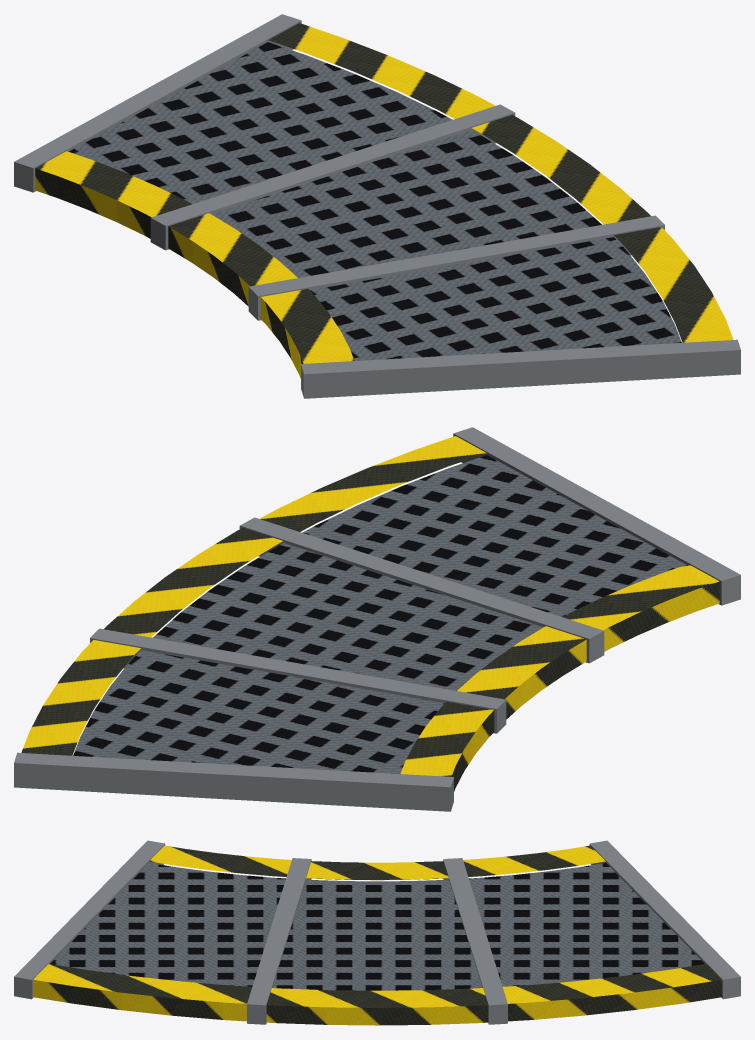
Rendered from ring_grate_segment.glb.
3 renders of one model, top to bottom at view 1: azimuth 30°, elevation 25°; view 2: azimuth 150°, elevation 25°; view 3: azimuth 270°, elevation 25°, orthographic. The views are drawn at different scales.
Visible parts, largest first — view 1: Ring_Grated_Deck_Surface, Ring_Outer_Hazard_Border, Ring_Inner_Hazard_Border, Cube, Cube.001, Cube.002, Cube.003; view 2: Ring_Grated_Deck_Surface, Ring_Outer_Hazard_Border, Ring_Inner_Hazard_Border, Cube.003, Cube.002, Cube.001, Cube; view 3: Ring_Grated_Deck_Surface, Ring_Outer_Hazard_Border, Ring_Inner_Hazard_Border, Cube, Cube.003, Cube.001, Cube.002.
Part boxes in pixels (x1,y1,x2,y2): Ring_Grated_Deck_Surface: (69,42,681,360); Ring_Outer_Hazard_Border: (268,23,733,342); Ring_Inner_Hazard_Border: (35,151,354,378); Cube: (301,339,740,398); Cube.001: (248,215,664,320); Cube.002: (150,104,515,250); Cube.003: (14,14,301,192); Ring_Grated_Deck_Surface: (73,455,685,773); Ring_Outer_Hazard_Border: (21,436,486,755); Ring_Inner_Hazard_Border: (400,564,719,791); Cube.003: (14,752,453,811); Cube.002: (90,628,506,733); Cube.001: (239,517,604,663); Cube: (453,427,740,605); Ring_Grated_Deck_Surface: (50,863,704,990); Ring_Outer_Hazard_Border: (33,964,721,1025); Ring_Inner_Hazard_Border: (149,845,605,880); Cube: (14,840,165,999); Cube.003: (589,840,740,999); Cube.001: (247,858,311,1024); Cube.002: (443,858,507,1024).
Size of the model in its own units: 3.67 by 0.2 by 6.77.
3 materials, 2 textured.
